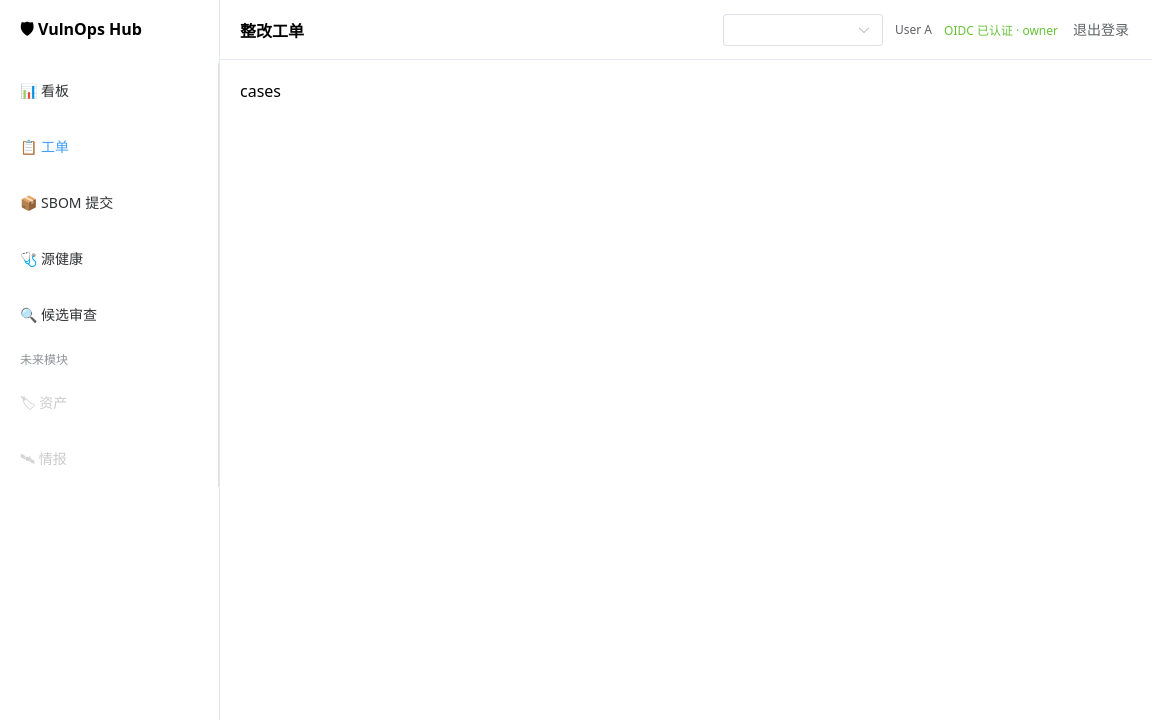
Test: App logout fallback › routes to login when provider logout rejects after local cleanup
Click the button "退出登录" at (1101, 30), box [1070,20,1132,40]
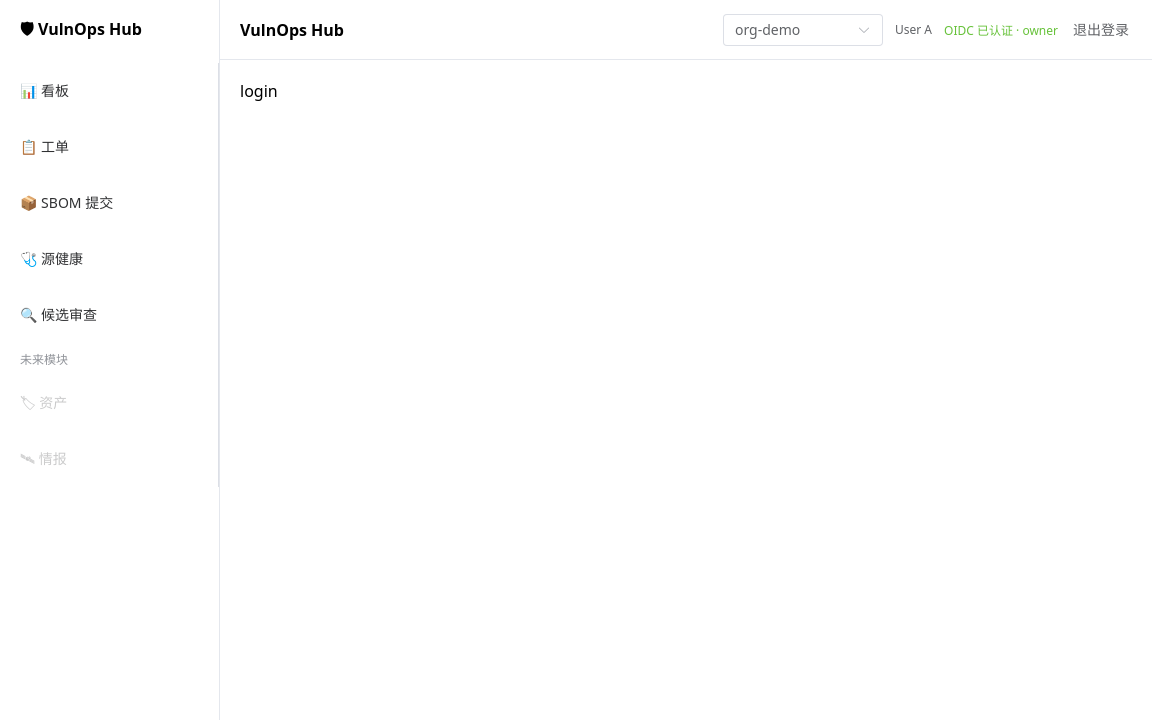
Expected: the text "login" is shown, [240,80,278,102]
